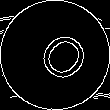O_SW: (22, 22, 88, 88)
